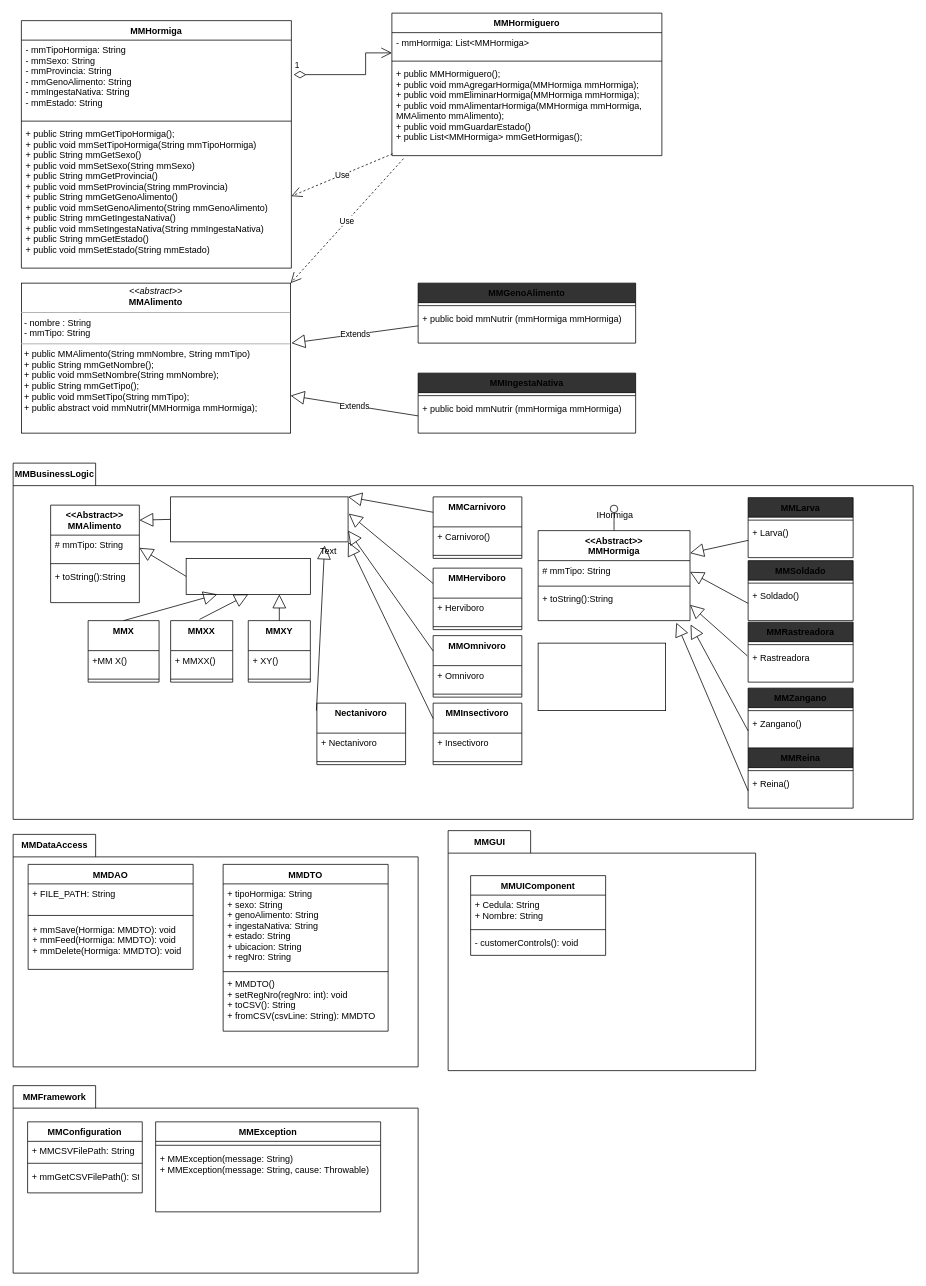
This 926x1286 diagram has some shape labels left out. The shapes that lost their labels are listed below. From the top down, each one's centre as x and y in pixels, then its label:
At point 259,519: "<<Abstract>> MMIngestaNativa".
At point 247,576: "<<Abstract>> MMGenoAlimento".
At point 601,676: "<<Interface>> MMIHormiga + comer(Alimento): boolean".
